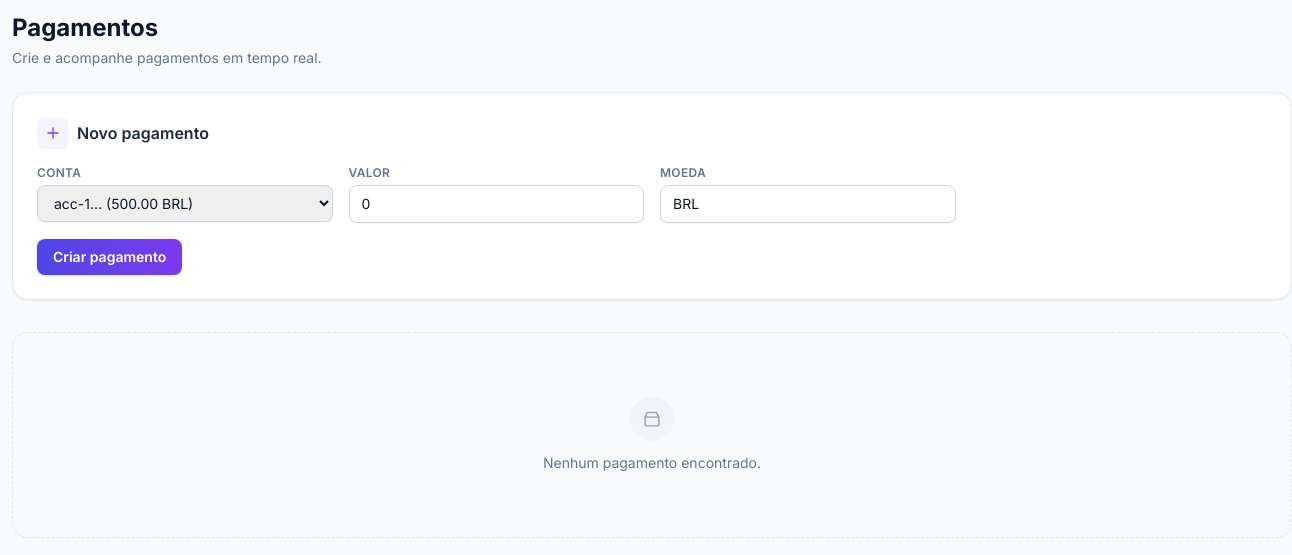
Test: PaymentsView › creates a payment with a fresh idempotency key and adds it to the list
The image size is (1292, 555).
Replace the text in the number field with "100" at (496, 204), box [348, 185, 644, 223]
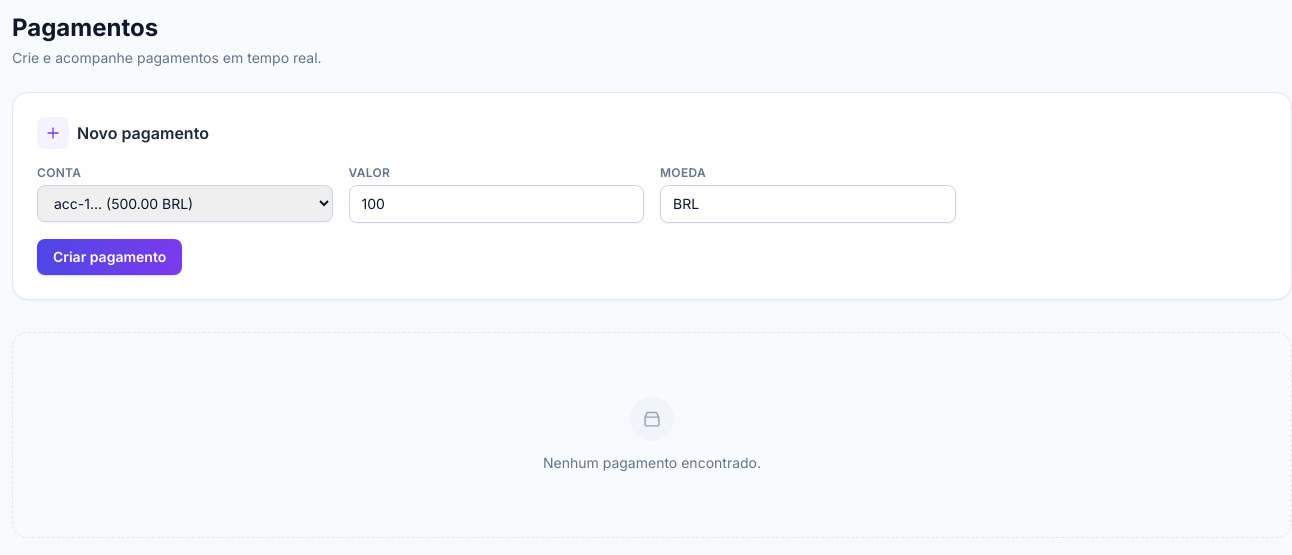
Submit the form, box [12, 92, 1291, 300]
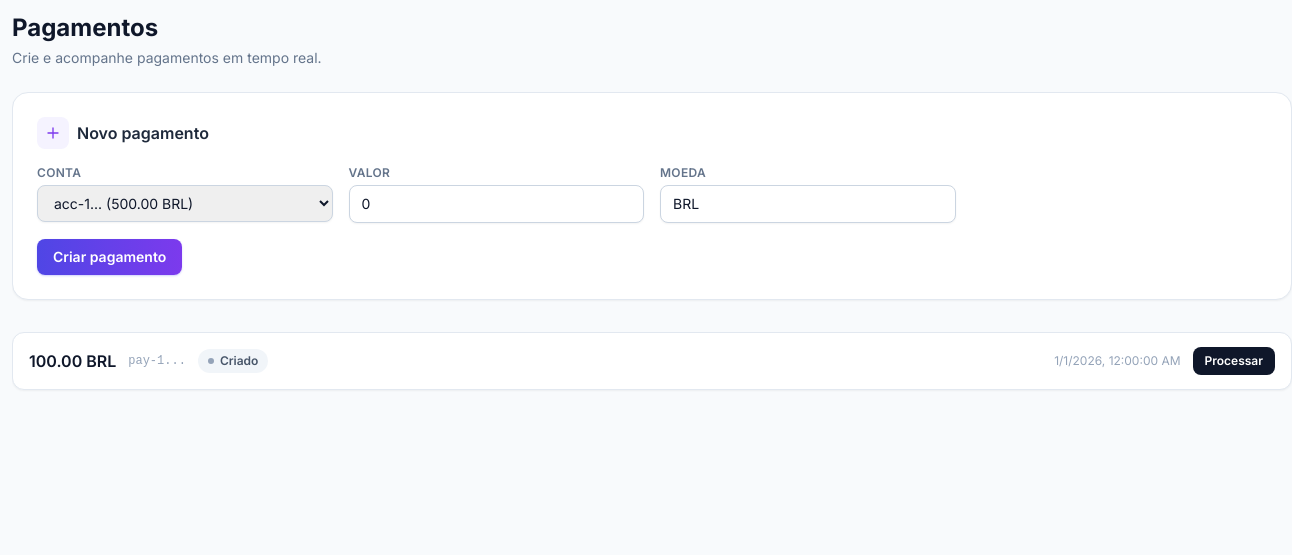
expect the text "100.00 BRL" is shown: met, box [29, 349, 116, 373]
